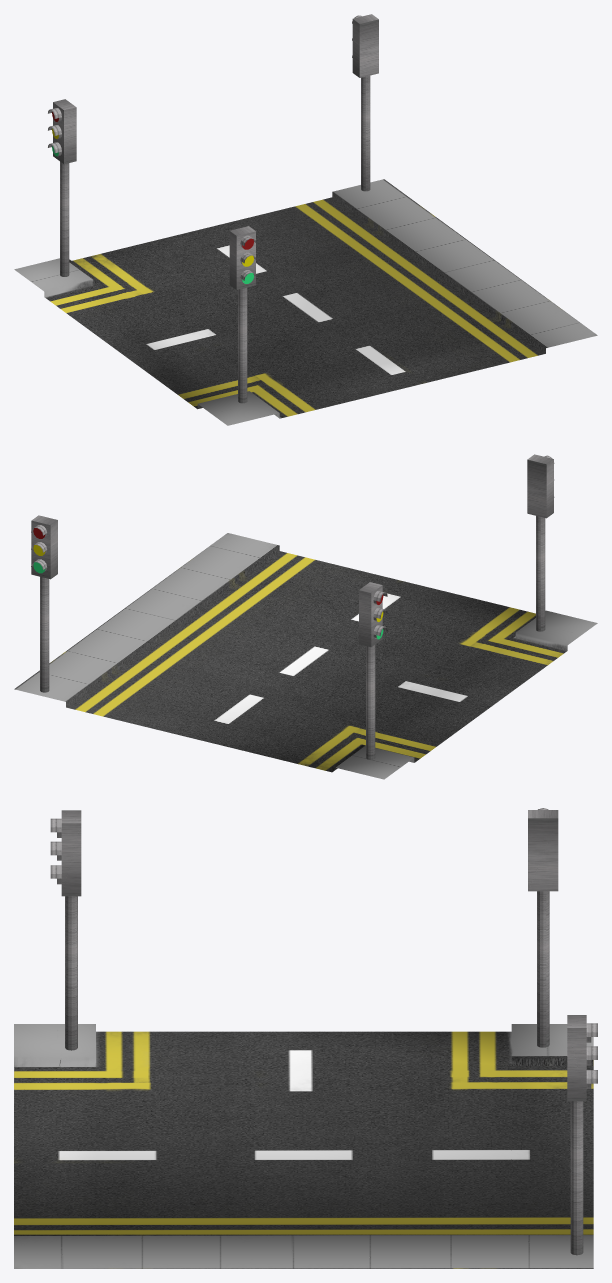
Rendered from TJunc_traffic.obj.
3 renders of one model, top to bottom at view 1: azimuth 30°, elevation 25°; view 2: azimuth 150°, elevation 25°; view 3: azimuth 270°, elevation 25°, orthographic. The views are drawn at different scales.
Parts seen in each view (by area): view 1: TJunc:pPlane2, CrossroadsTraffic:group2 CrossroadsTraffic:group8 CrossroadsTraf; view 2: TJunc:pPlane2, CrossroadsTraffic:group2 CrossroadsTraffic:group8 CrossroadsTraf; view 3: TJunc:pPlane2, CrossroadsTraffic:group2 CrossroadsTraffic:group8 CrossroadsTraf.
Part boxes in pixels (bbox=[...]): TJunc:pPlane2: bbox=[14, 179, 597, 425]; CrossroadsTraffic:group2 CrossroadsTraffic:group8 CrossroadsTraf: bbox=[53, 14, 378, 403]; TJunc:pPlane2: bbox=[14, 533, 597, 779]; CrossroadsTraffic:group2 CrossroadsTraffic:group8 CrossroadsTraf: bbox=[31, 454, 553, 759]; TJunc:pPlane2: bbox=[14, 1024, 593, 1268]; CrossroadsTraffic:group2 CrossroadsTraffic:group8 CrossroadsTraf: bbox=[61, 810, 586, 1255].
Bounding box in the file's own units: 50 × 22.72 × 50.37.
